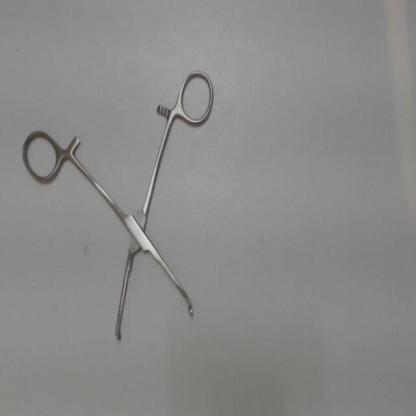Allis Tissue Forceps: (15, 63, 221, 352)
